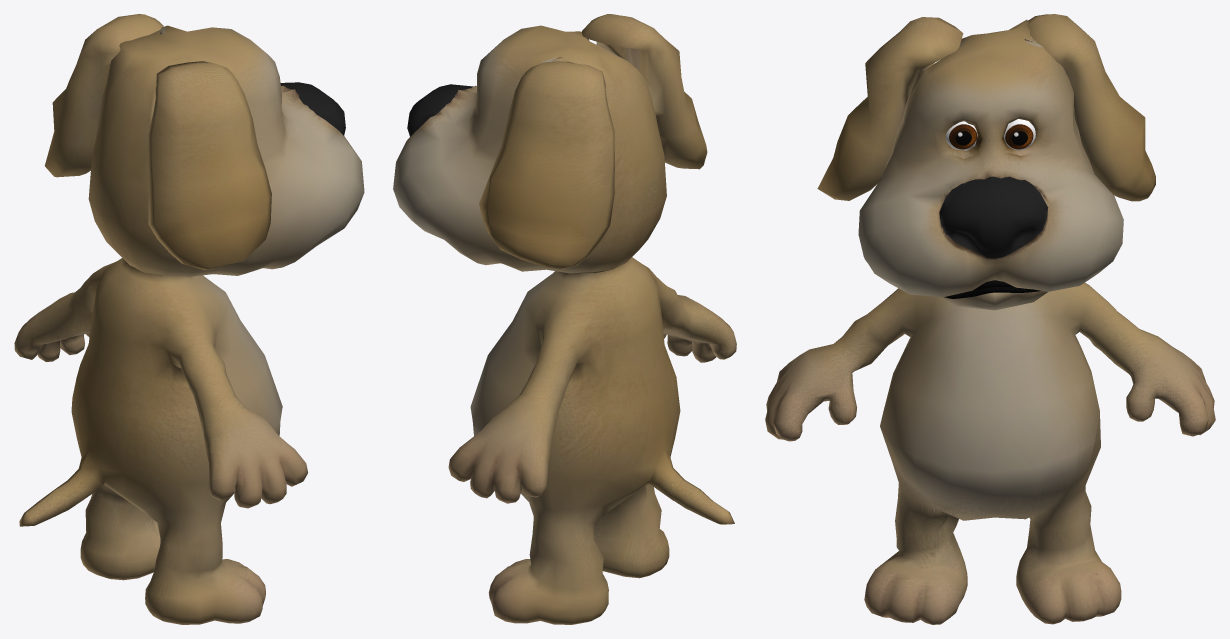
File: animal.glb
The picture shows the model from 3 angles, left to right: view 1: azimuth 30°, elevation 25°; view 2: azimuth 150°, elevation 25°; view 3: azimuth 270°, elevation 25°; orthographic projection. The views are drawn at different scales.
Visible parts, largest first — view 1: cuerpo_0, head_48, oreja.001_46, oreja_45, nariz.001_50; view 2: cuerpo_0, head_48, oreja_45, oreja.001_46, nariz.001_50; view 3: cuerpo_0, head_48, oreja.001_46, oreja_45, nariz.001_50, mandibula_44, Sphere_49, Sphere.001_51.
Boxes of the visible parts, box(x1,y1,x2,y2) form: cuerpo_0: box(14, 258, 307, 624); head_48: box(88, 25, 364, 276); oreja.001_46: box(148, 61, 271, 270); oreja_45: box(44, 14, 163, 177); nariz.001_50: box(280, 82, 345, 135); cuerpo_0: box(448, 257, 736, 624); head_48: box(393, 25, 666, 273); oreja_45: box(479, 61, 614, 268); oreja.001_46: box(581, 14, 707, 169); nariz.001_50: box(407, 84, 473, 136); cuerpo_0: box(765, 283, 1215, 624); head_48: box(858, 19, 1123, 297); oreja.001_46: box(817, 17, 963, 200); oreja_45: box(1027, 14, 1155, 201); nariz.001_50: box(939, 176, 1048, 258); mandibula_44: box(939, 291, 1047, 310); Sphere_49: box(1003, 119, 1035, 150); Sphere.001_51: box(945, 121, 977, 150).
Bounding box in the file's own units: 2.78 × 4.55 × 3.25.
Materials: 14 (4 with a texture image).
